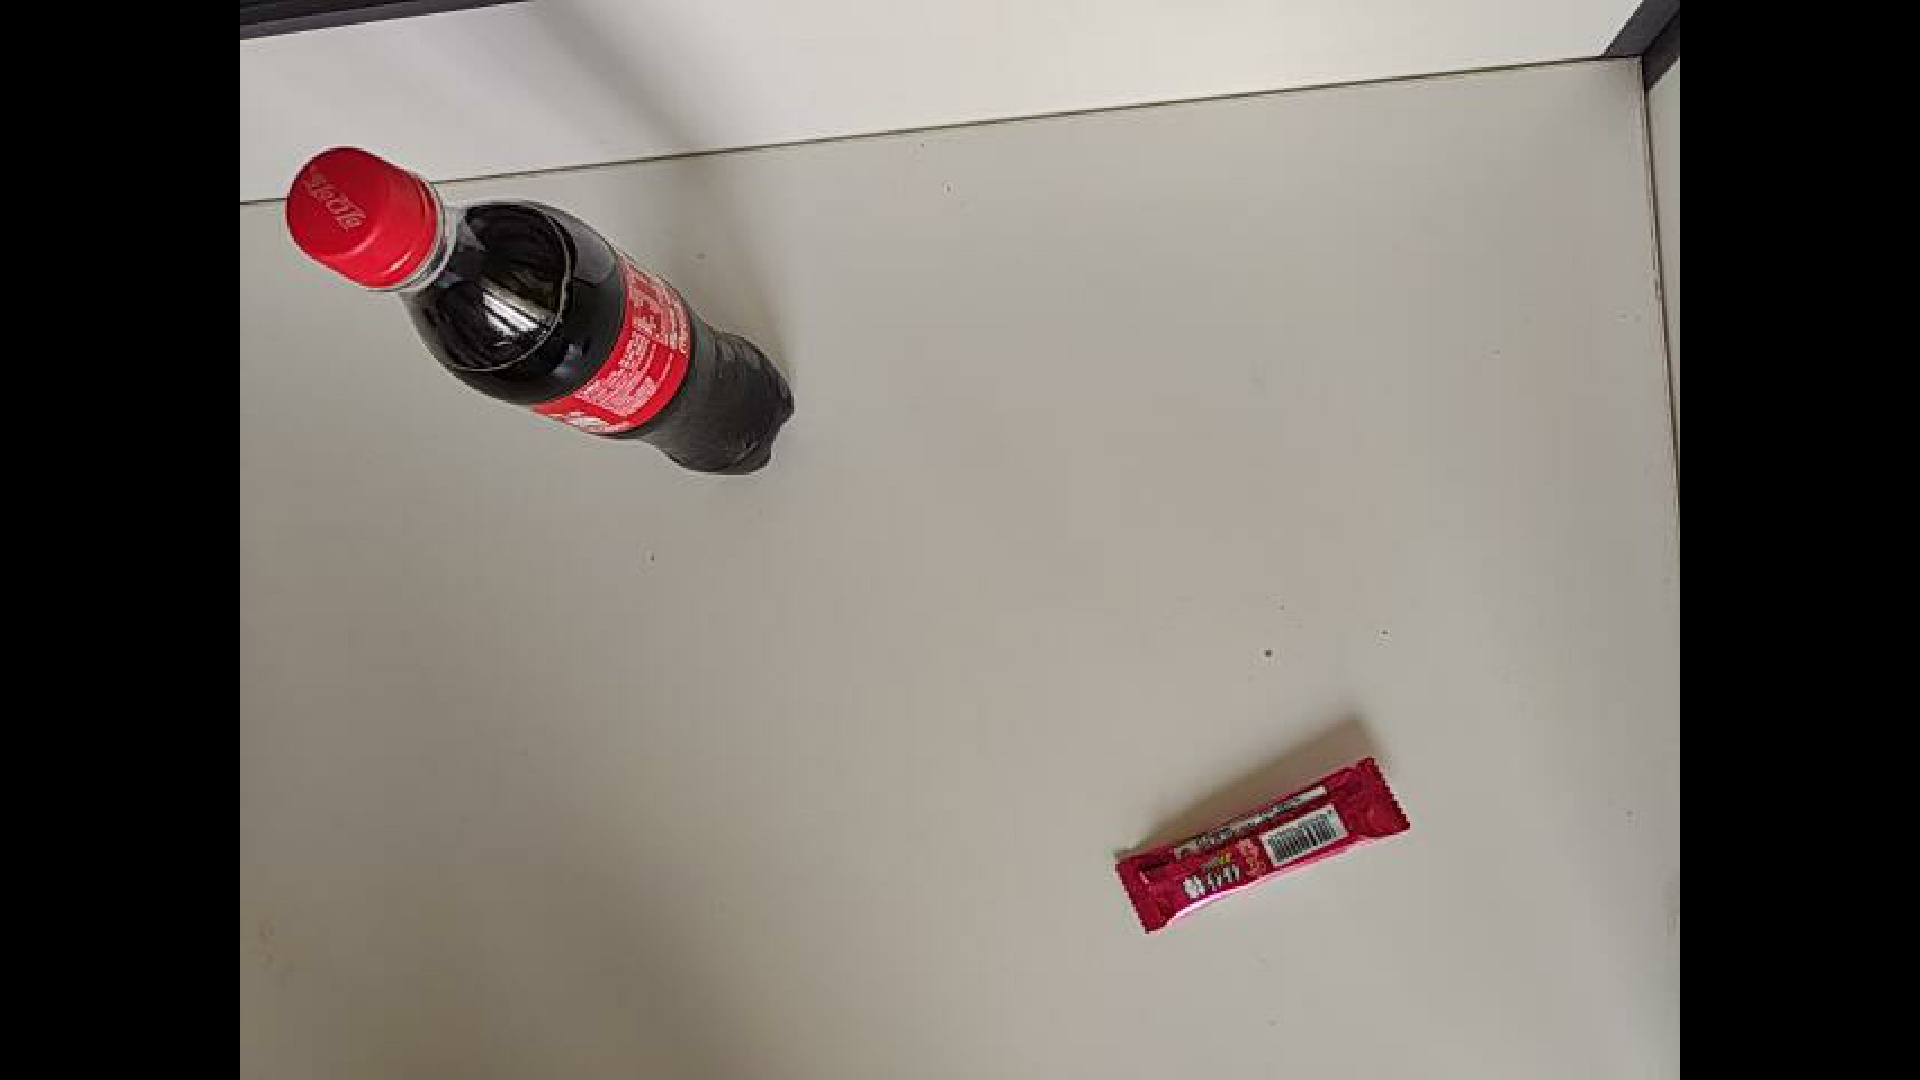cola: (162, 79, 829, 418)
sugar: (1110, 799, 1439, 940)
